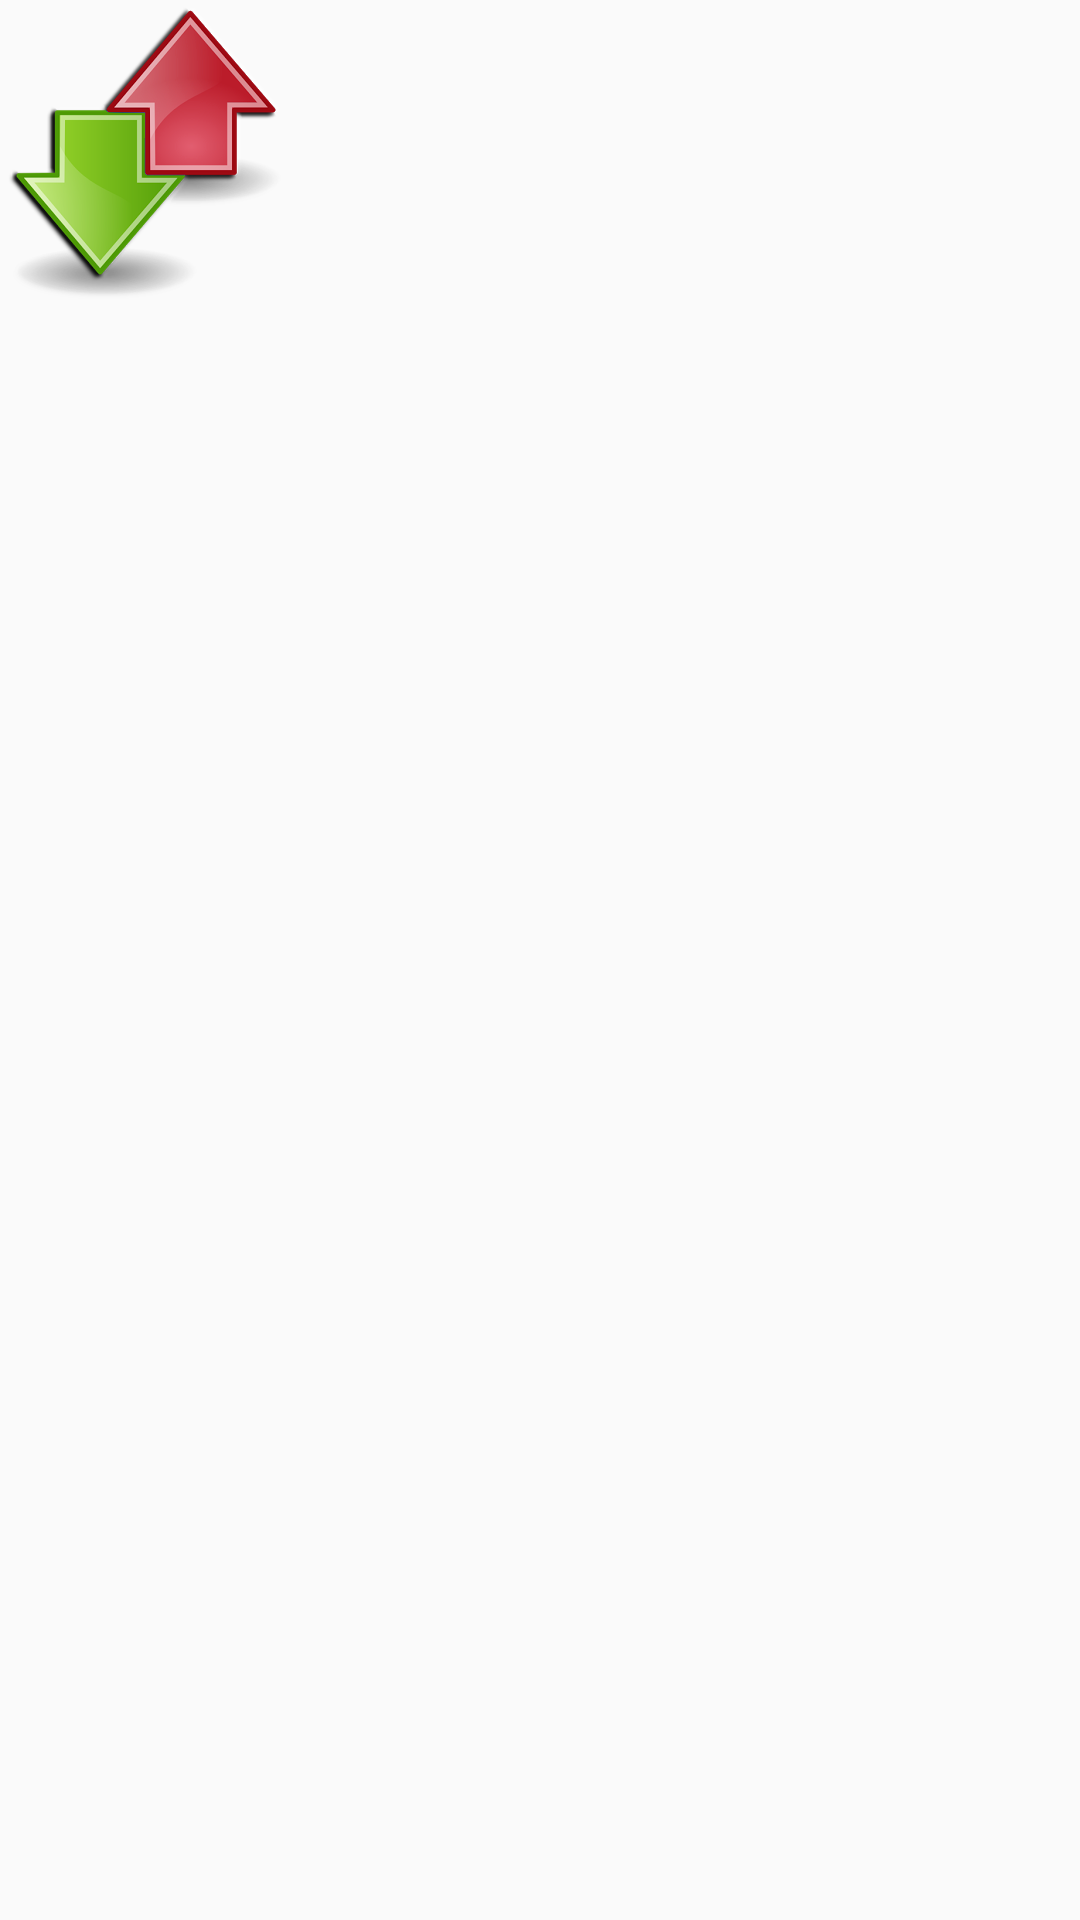

Icon click points for this 1080×1920 phone screenshot, format (x=x, y=y):
dados on: (x=143, y=151)
